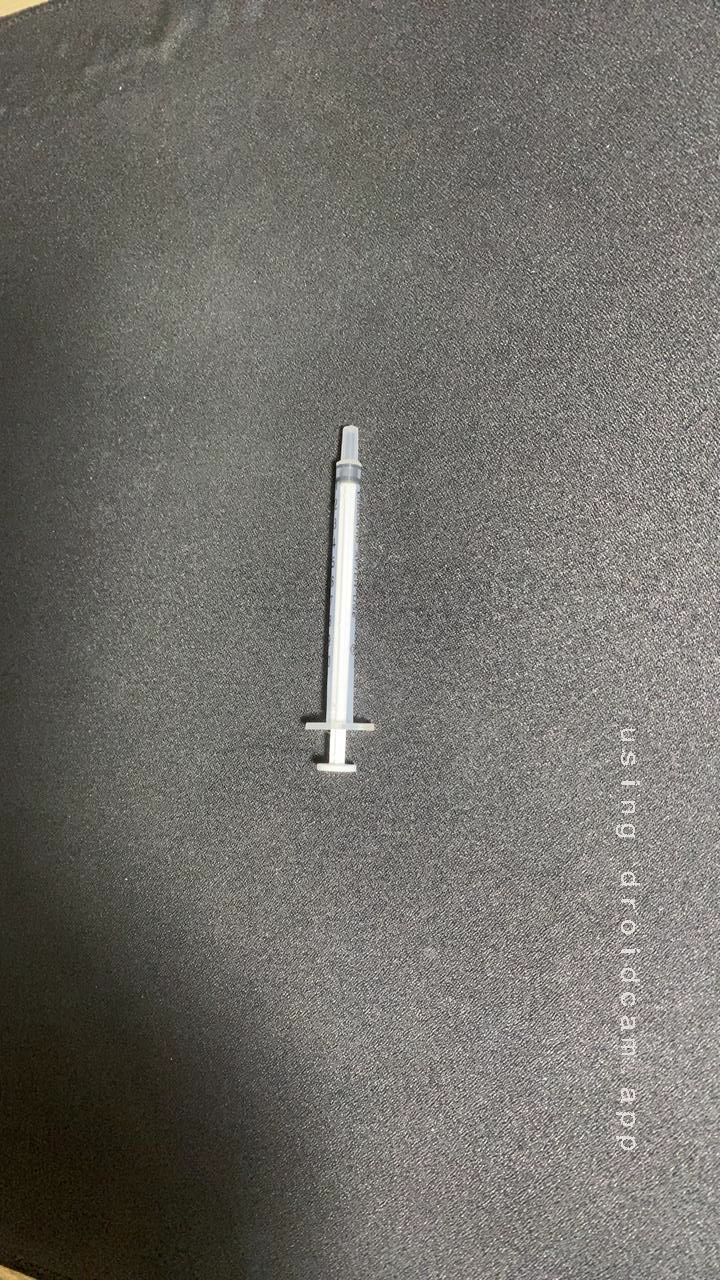syringe: (271, 440, 396, 785)
